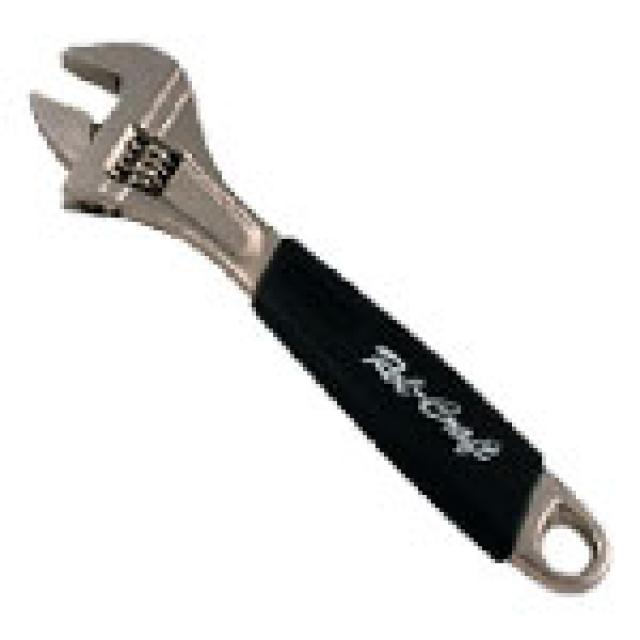wrench: (6, 17, 588, 507)
